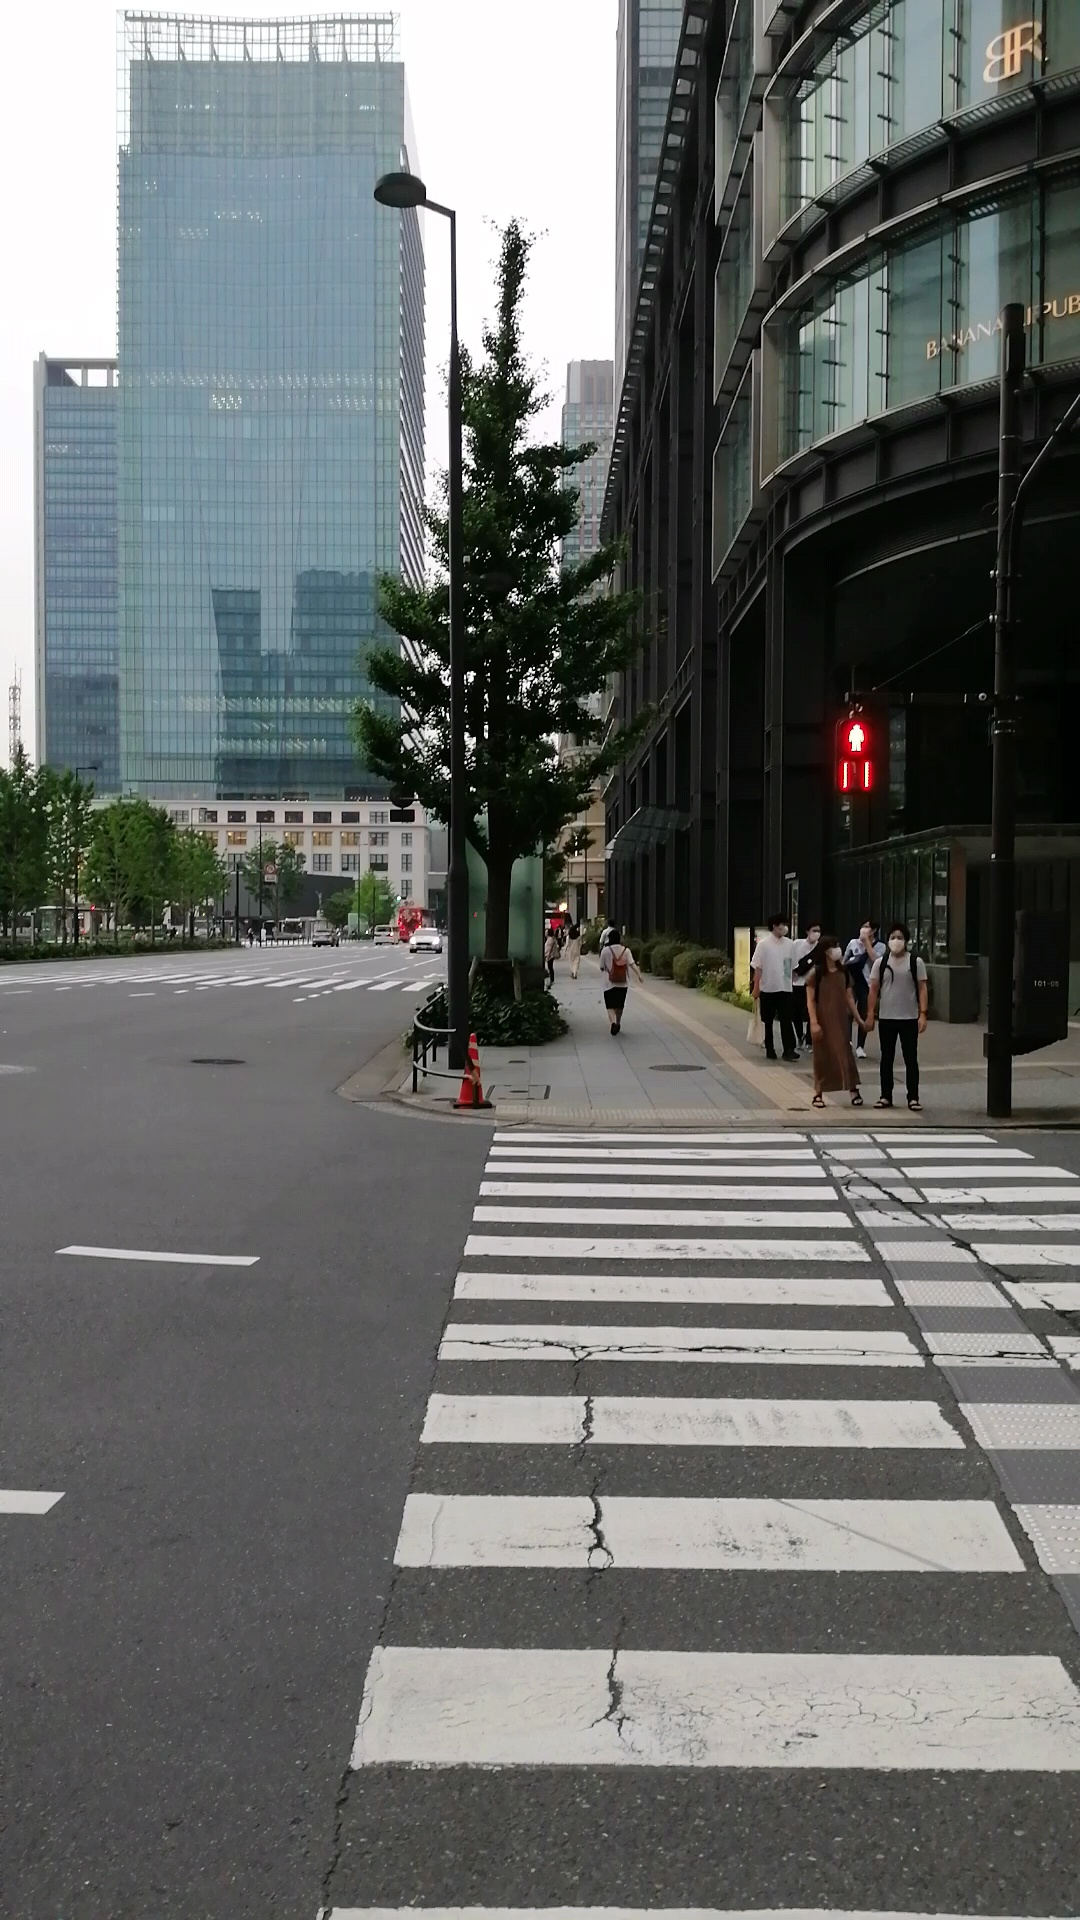red: (832, 716, 877, 796)
